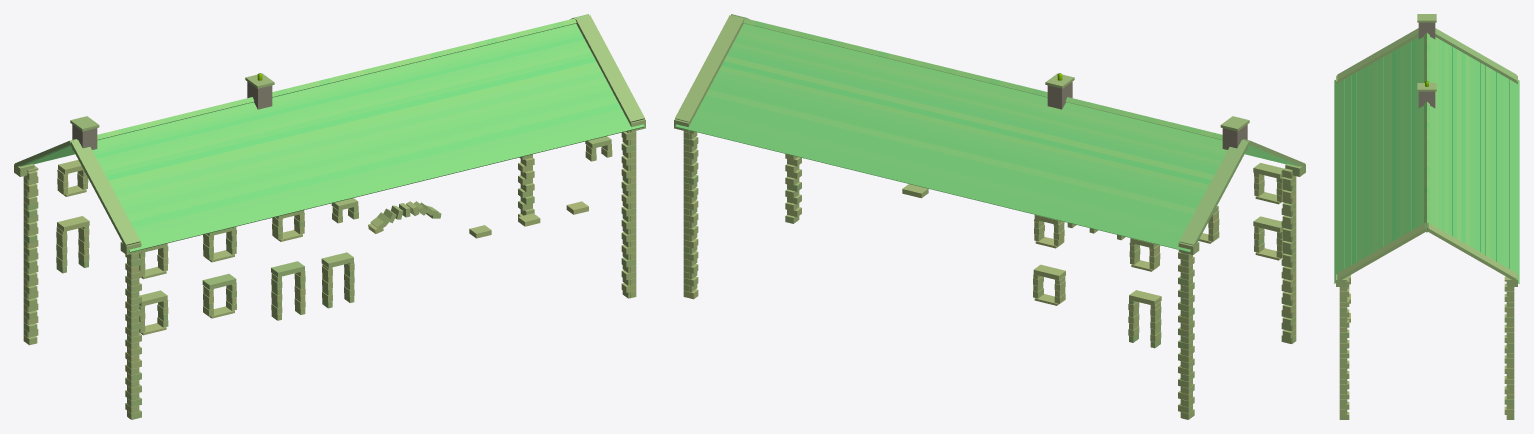
The model's file is SM_Bld_122_Stone.glb.
The picture shows the model from 3 angles, left to right: view 1: azimuth 30°, elevation 25°; view 2: azimuth 150°, elevation 25°; view 3: azimuth 270°, elevation 25°; orthographic projection. The views are drawn at different scales.
Visible parts, largest first — view 1: SM_Bld_122_Stone; view 2: SM_Bld_122_Stone; view 3: SM_Bld_122_Stone.
Boxes of the visible parts, <box> form: SM_Bld_122_Stone: <box>14,14,645,419</box>; SM_Bld_122_Stone: <box>674,14,1305,419</box>; SM_Bld_122_Stone: <box>1334,14,1519,419</box>.
Bounding box in the file's own units: 25.64 × 12.35 × 9.83.
